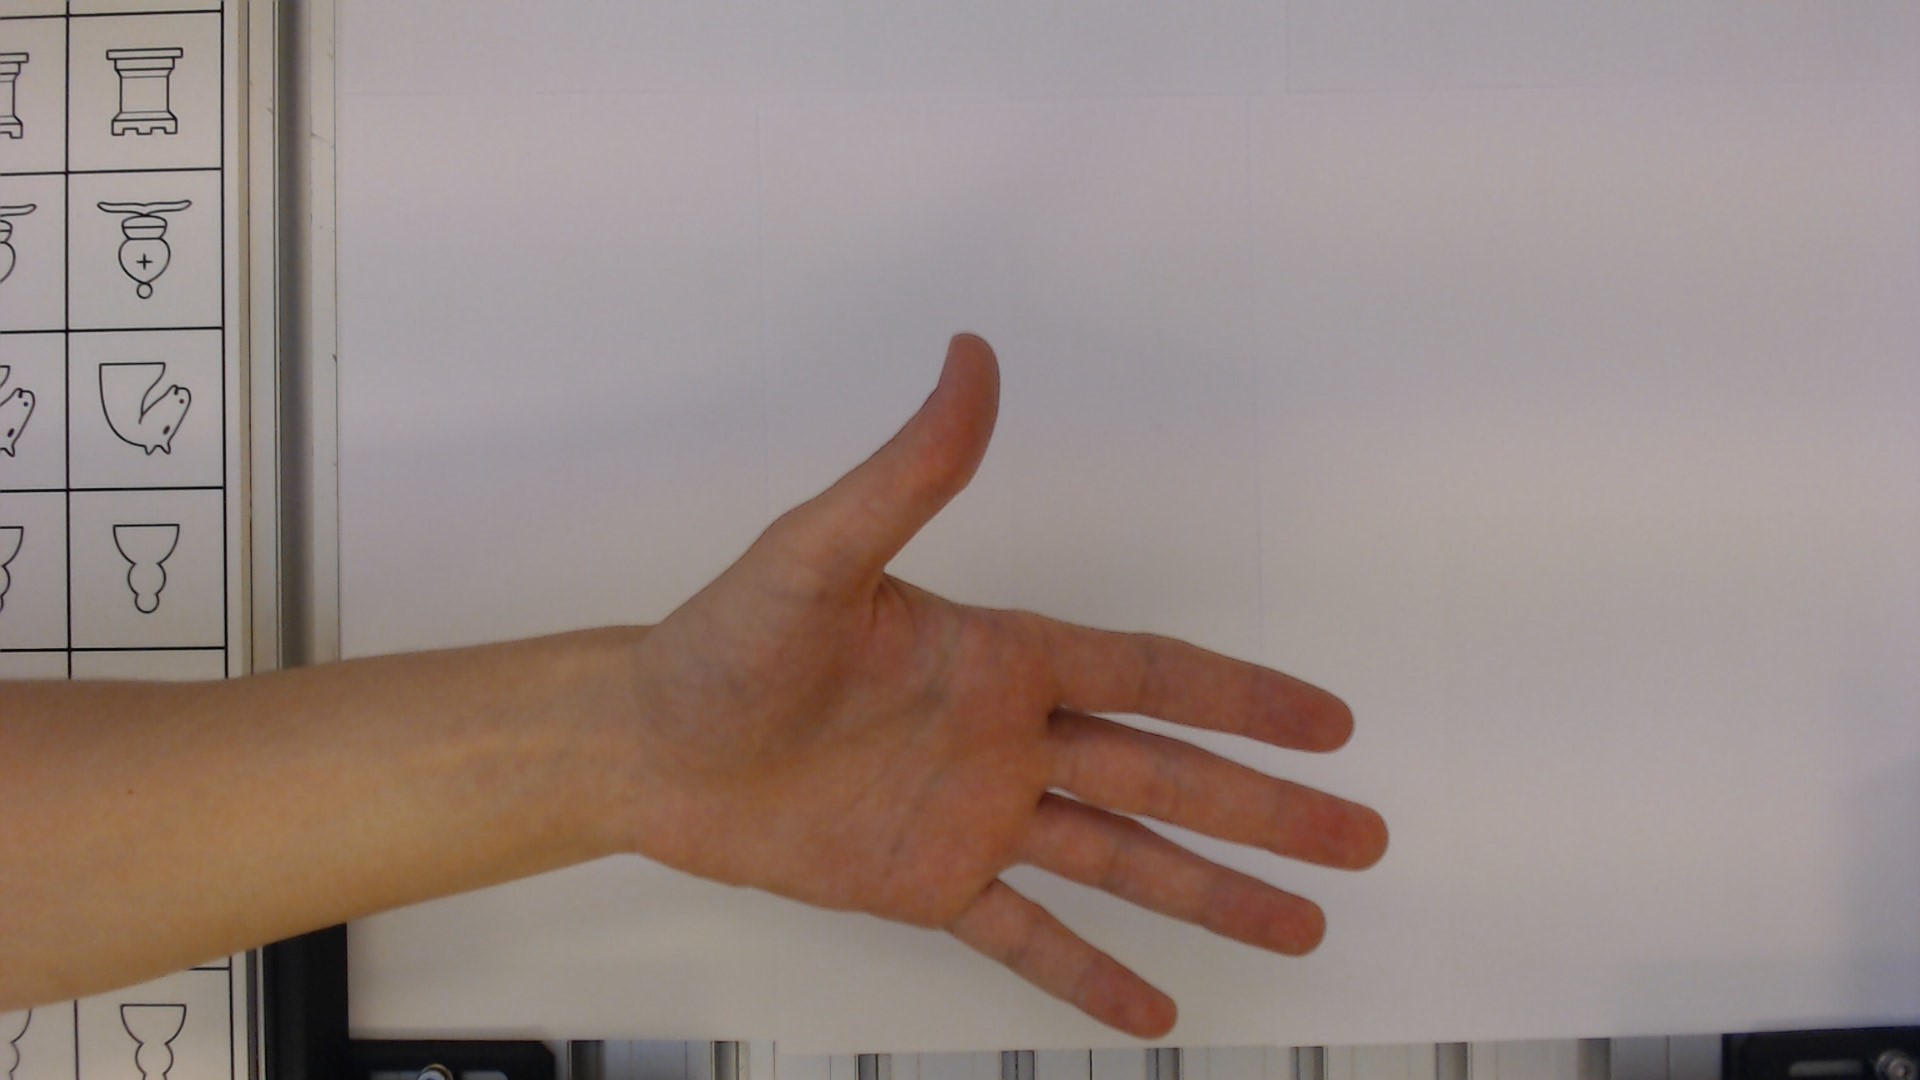Palm: (629, 487, 1048, 971)
